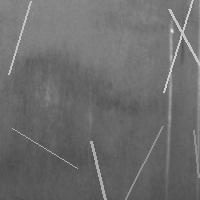scratches: (119, 121, 167, 200), (159, 0, 198, 97), (7, 123, 82, 173), (164, 4, 200, 100), (4, 0, 36, 79), (163, 16, 178, 175), (86, 136, 112, 200), (188, 125, 200, 182)
